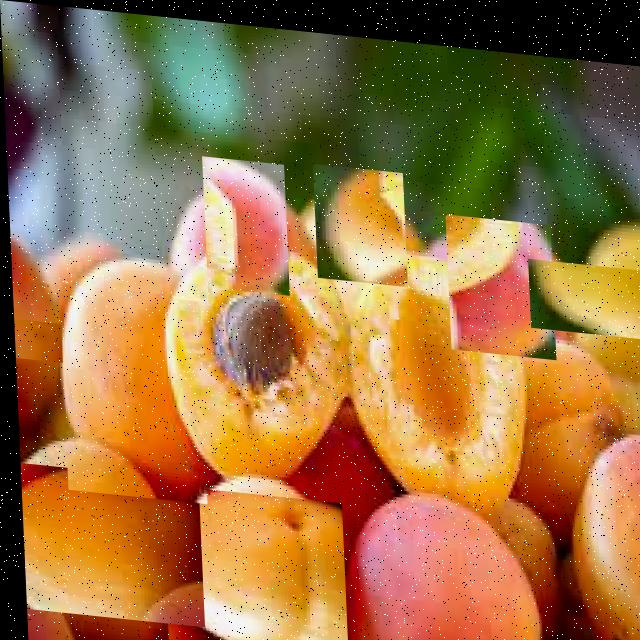Apricot: (346, 241, 536, 499), (165, 240, 345, 477), (61, 262, 201, 499), (16, 446, 184, 637), (337, 484, 538, 640), (164, 474, 341, 640), (571, 416, 640, 640), (446, 213, 552, 344), (201, 152, 286, 300), (550, 222, 640, 351), (10, 278, 94, 405), (315, 162, 404, 273), (212, 287, 297, 395)
